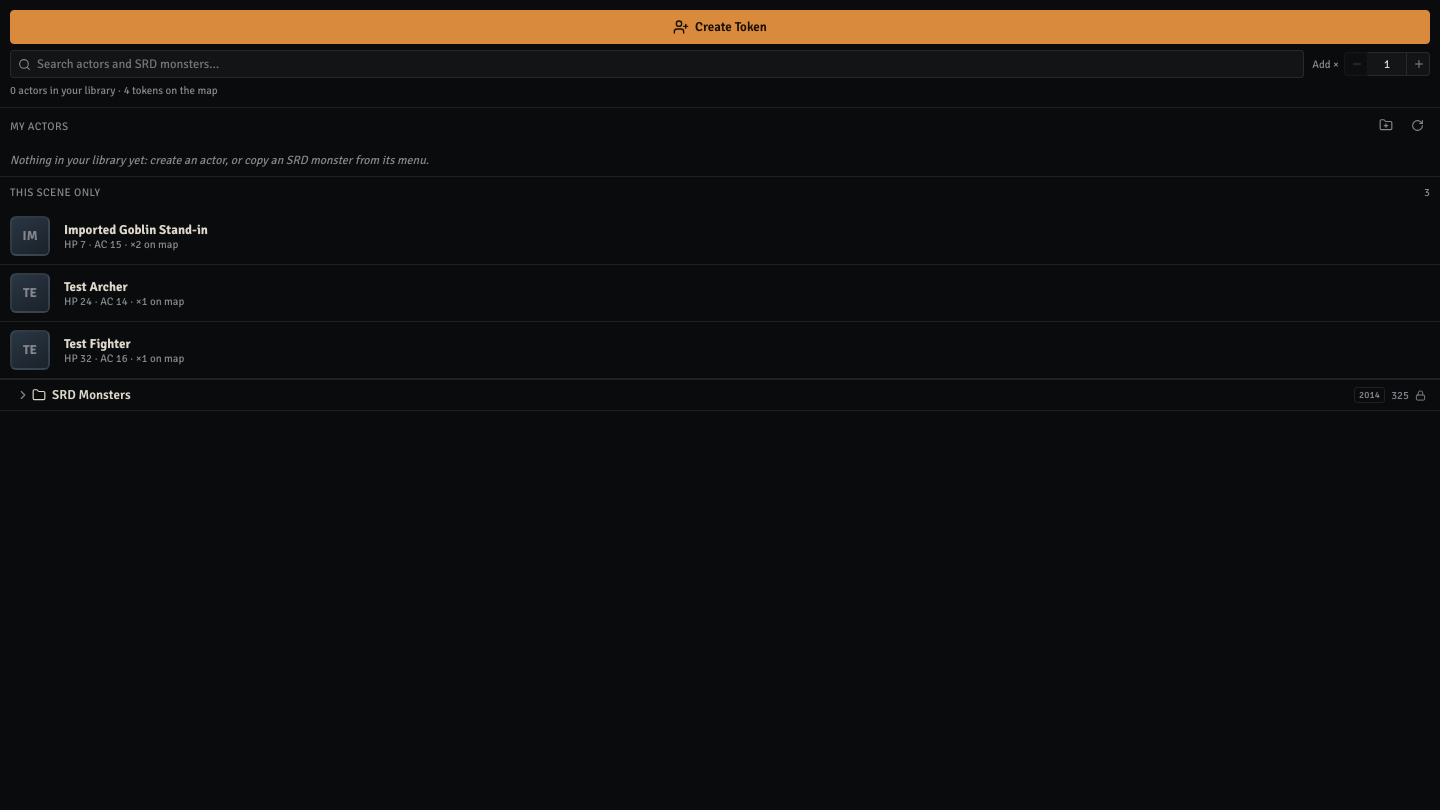
Test: SRD monster search › says so when nothing matches, and the search clears with ×
Click the text "SRD Monsters": (91, 395) [52,387,131,403]
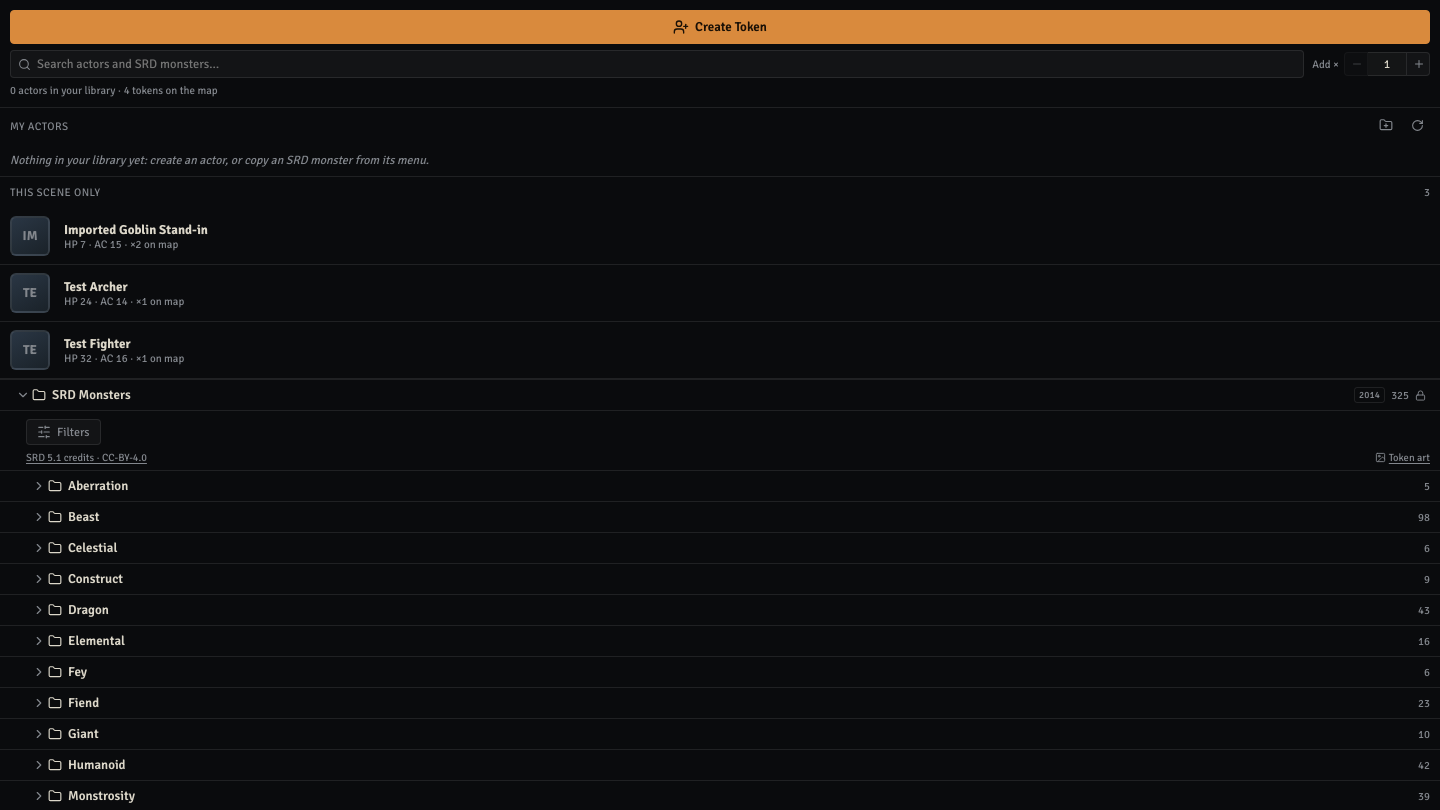
In the search field labelled "Search actors": (657, 64) [10,50,1304,78], type "zzzzqq"
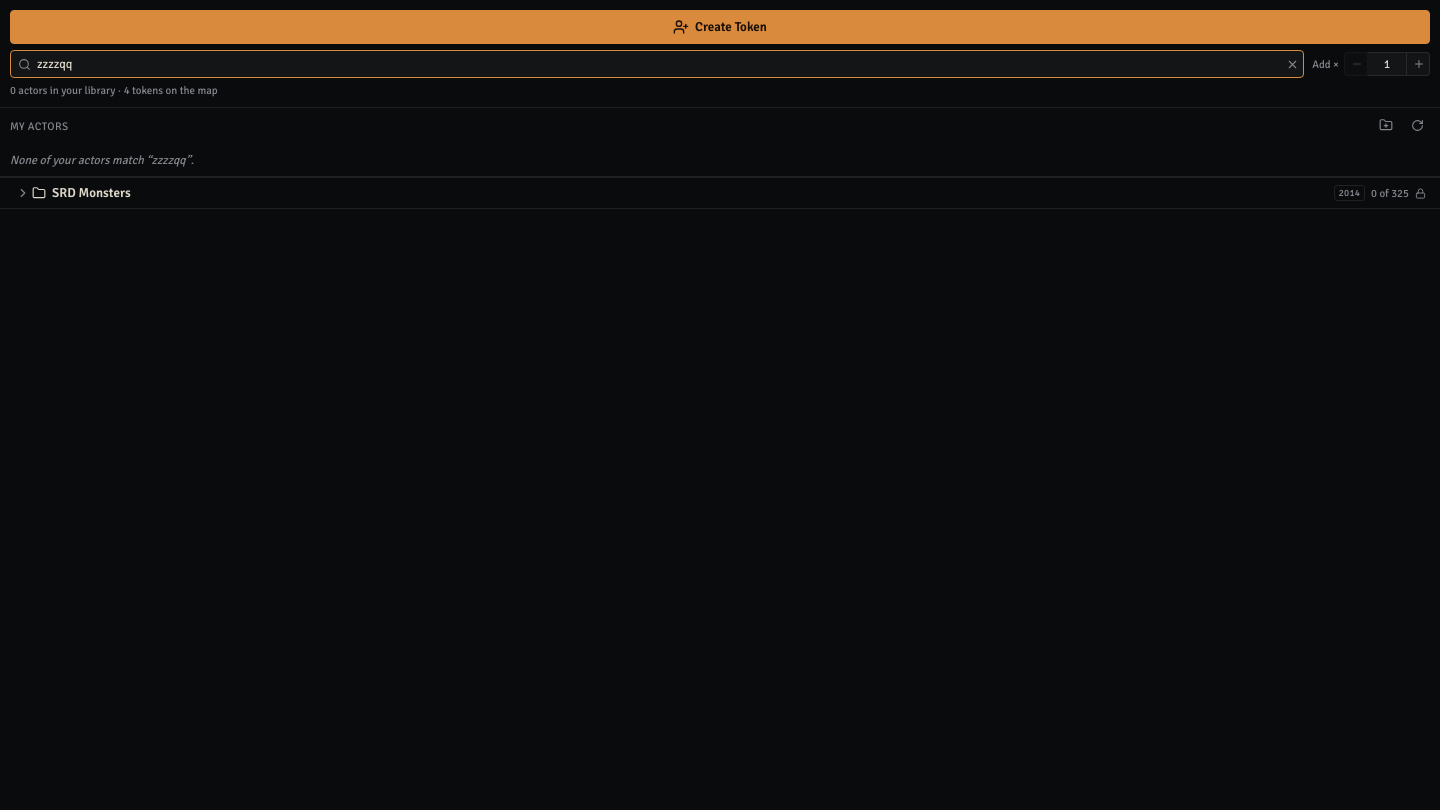
Check: the text "0 of 325" is shown, box [1371,186,1409,200]
Check: the list item "None of your actors match “zzzzqq”." is shown, box [0,145,1439,177]
Click the button named "Clear the search": (1290, 64) [1280,54,1300,74]
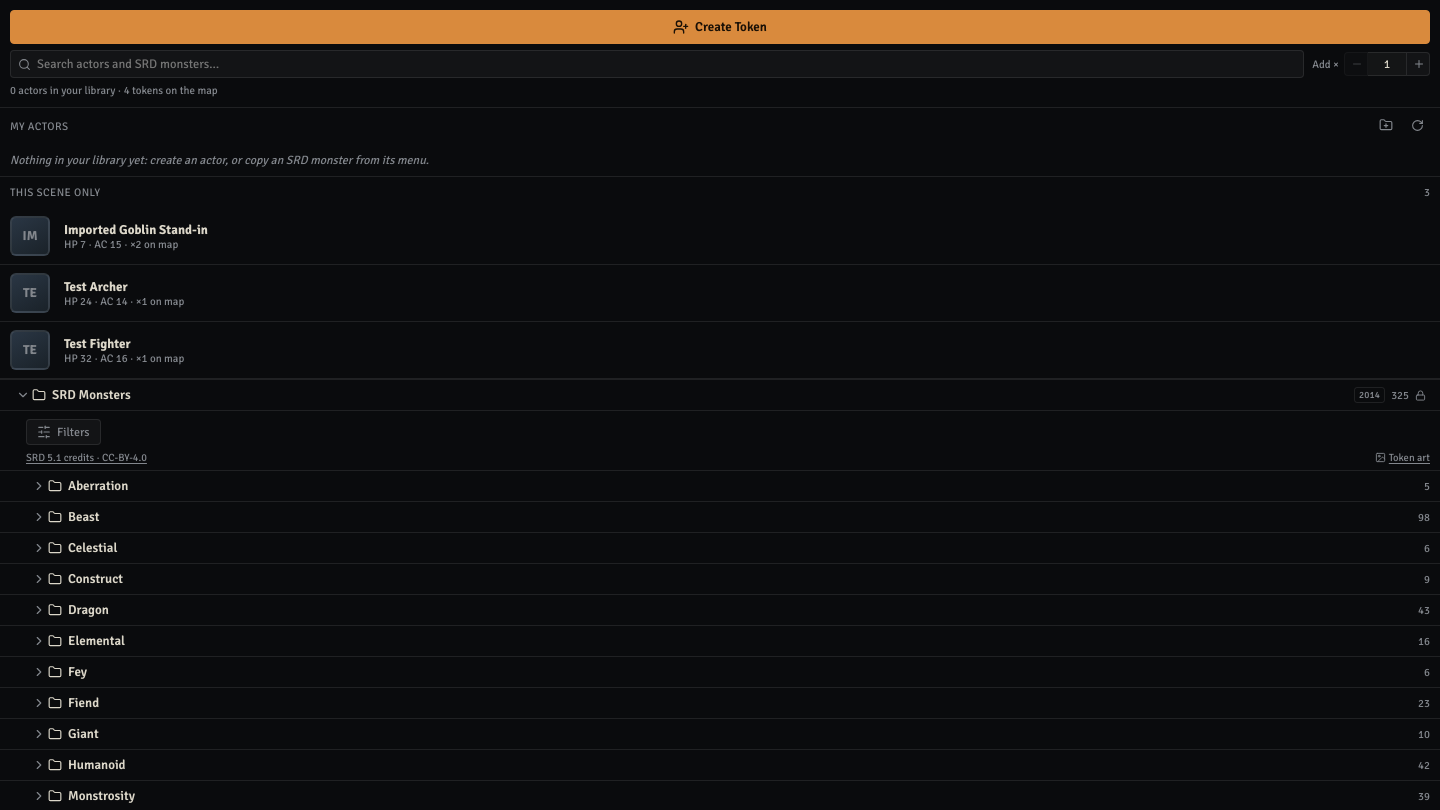
Check: the text "325" is shown, box [1391,388,1409,402]
Check: the search field labelled "Search actors" is empty, box [10,50,1304,78]
